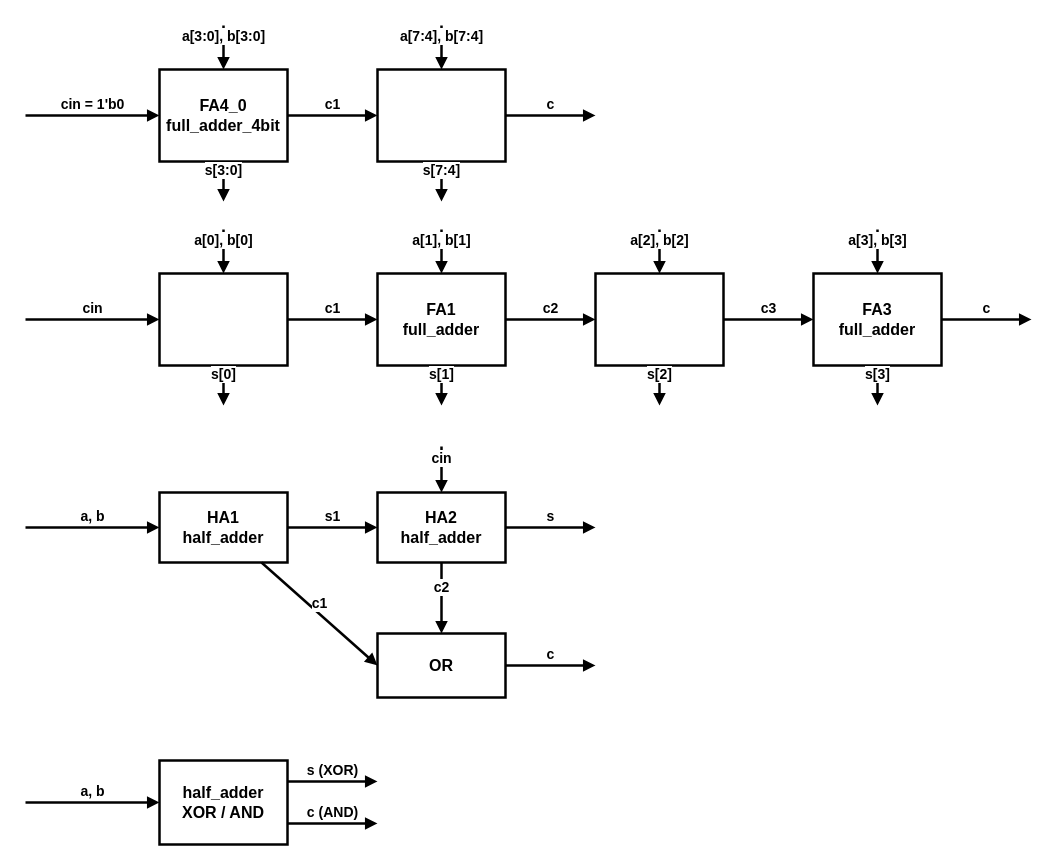
This 1058x863 diagram has some shape labels left out. Here are the shapes that lost their labels. From the top down, the centre of each, then its label:
At point (441, 115): "FA4_1 full_adder_4bit".
At point (223, 319): "FA0 full_adder".
At point (659, 319): "FA2 full_adder".
